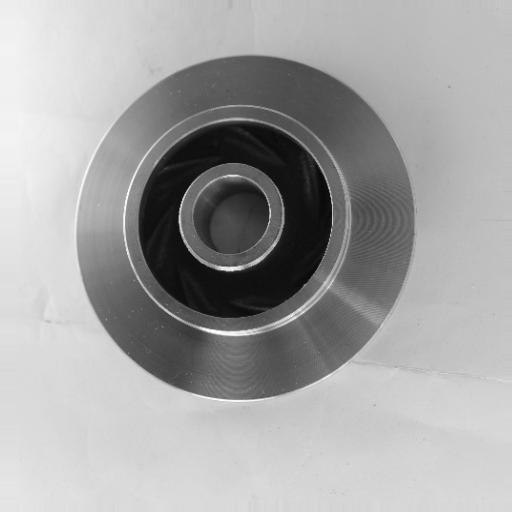polished_casting: (75, 52, 417, 404)
